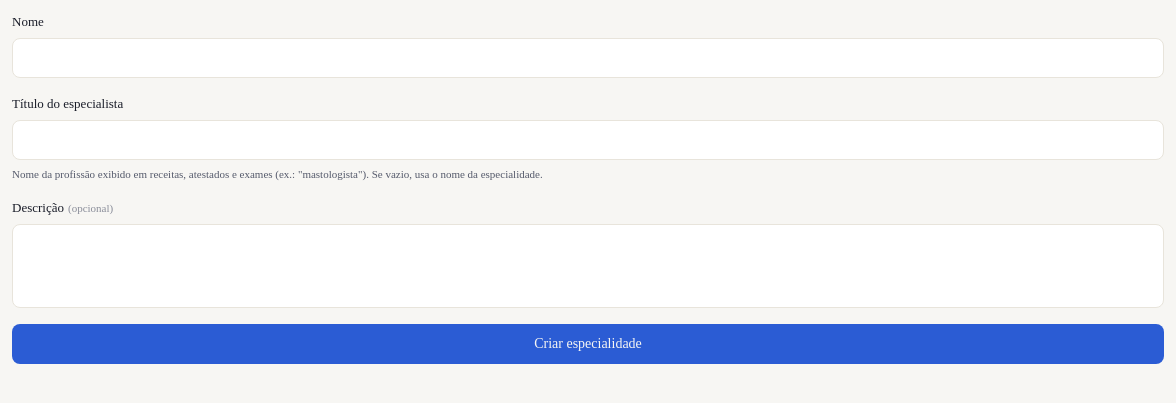
Test: SpecialtyForm (integration) — create mode › shows validation error for short name
Type "AB" into the field with test id "specialty-form-name" at (588, 58), box 12,38 -> 1164,78
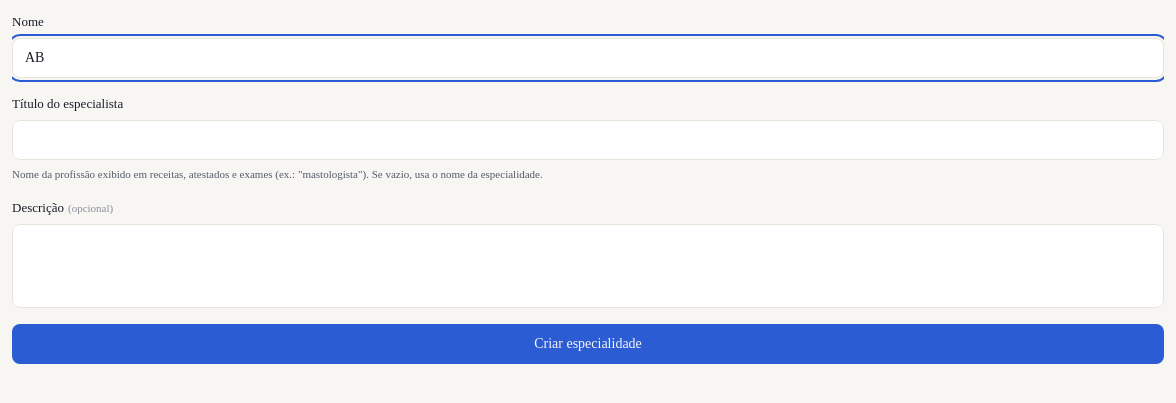
Click the button with test id "specialty-form-submit" at (588, 344), box 12,324 -> 1164,364
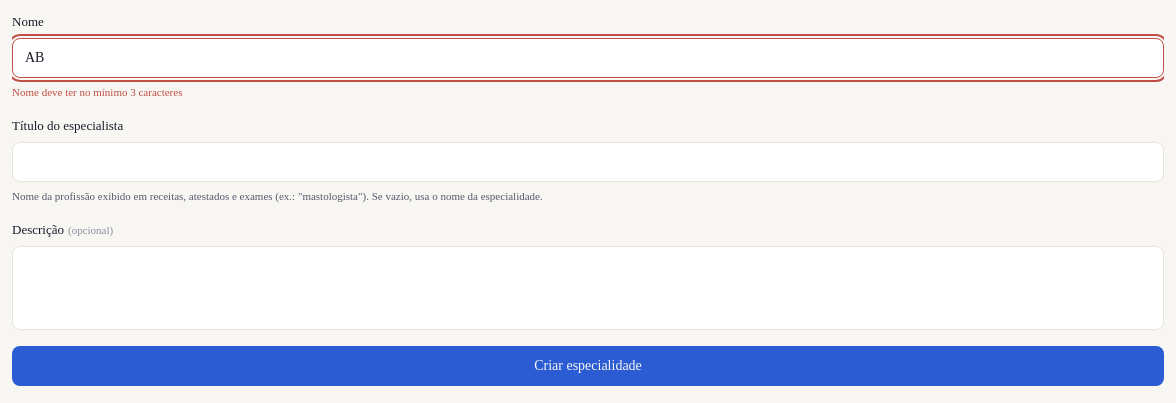
Expected: the text "Nome deve ter no mínimo 3 caracteres" is shown, 12,86 -> 182,98
